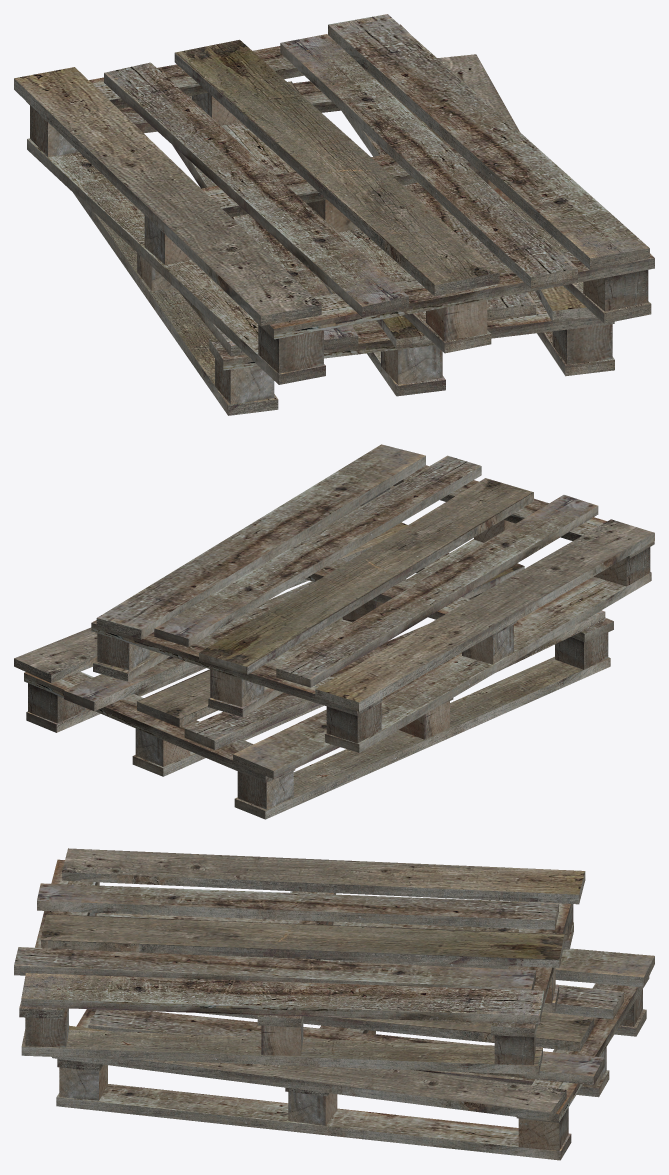
The model's file is pallet_group_02.FBX.
3 renders of one model, top to bottom at view 1: azimuth 30°, elevation 25°; view 2: azimuth 150°, elevation 25°; view 3: azimuth 270°, elevation 25°, orthographic. The views are drawn at different scales.
Visible parts, largest first — view 1: pallet_s; view 2: pallet_s; view 3: pallet_s.
Part boxes in pixels (box(x1,y1,x2,y2)): pallet_s: box(14, 14, 654, 415); pallet_s: box(14, 444, 654, 819); pallet_s: box(14, 848, 654, 1160).
Bounding box in the file's own units: 1.13 × 0.2952 × 1.48.
